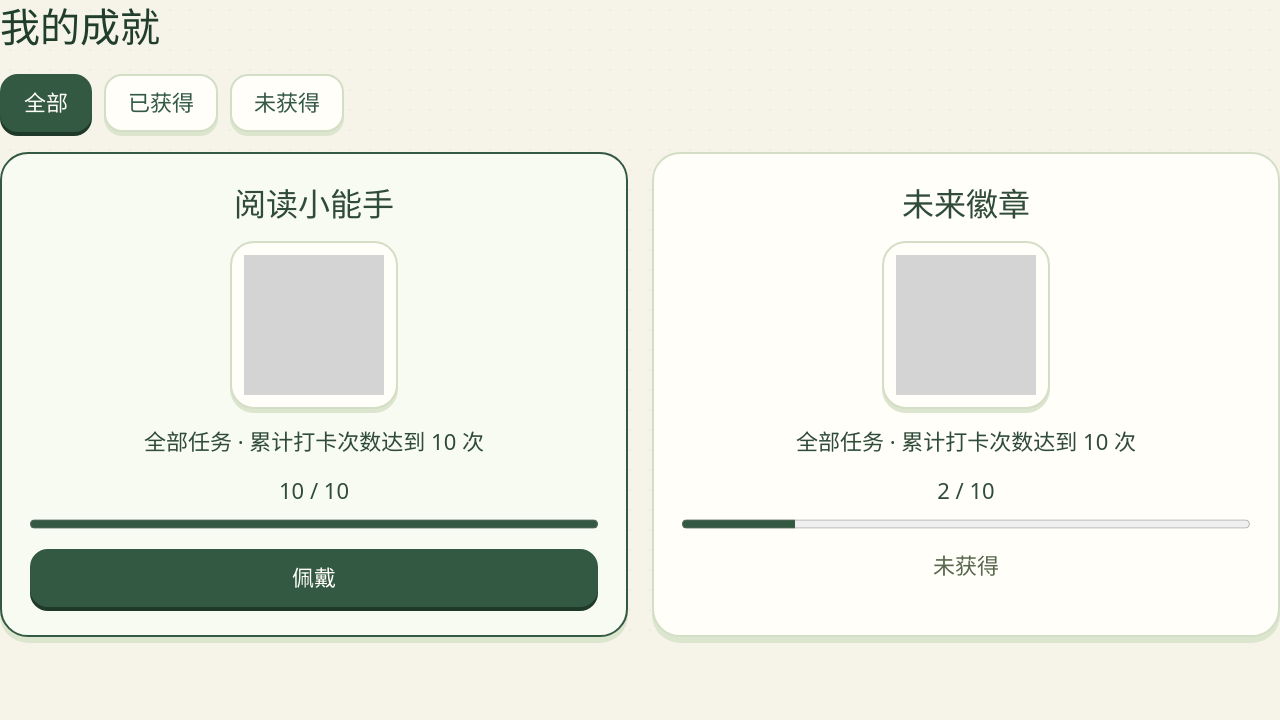
Test case: 成就浏览和佩戴 › 未获得成就只能查看进度，已获得可佩戴且以服务端结果更新
Expected: the heading "阅读小能手" is shown, [234,182,394,225]
Click the button "佩戴" at (314, 578), box [30,549,598,607]
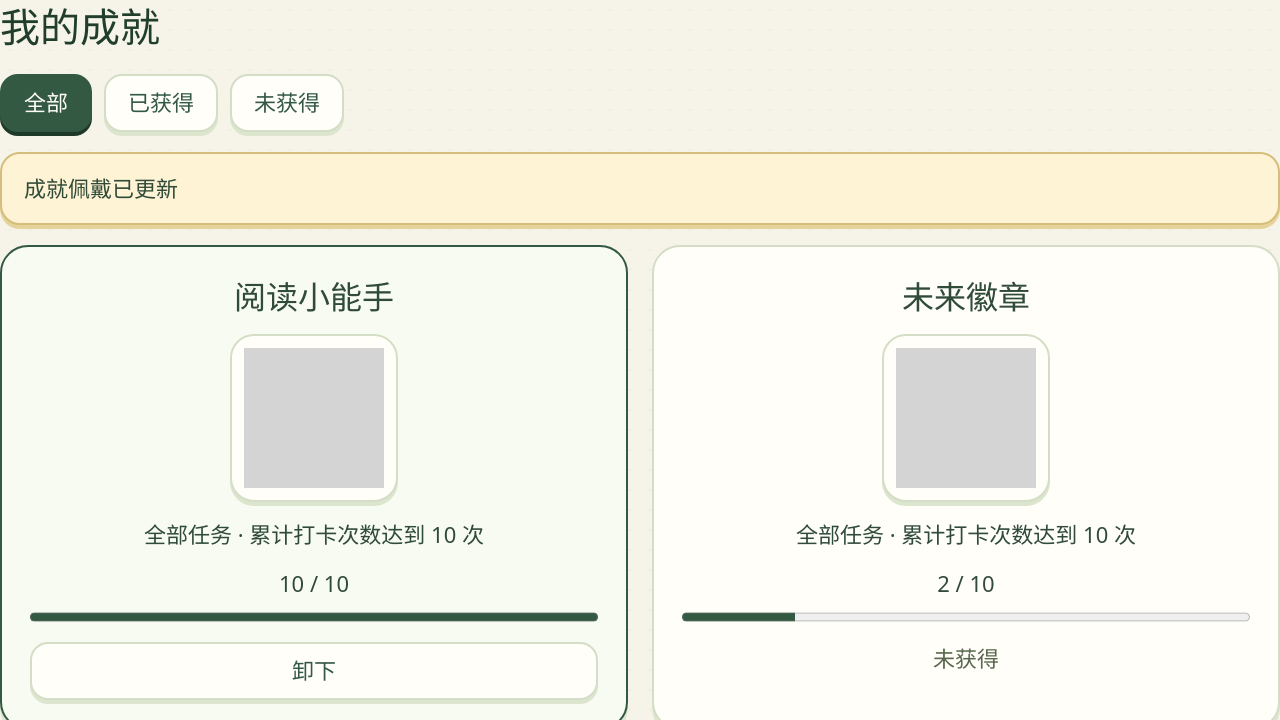
Expected: the button "卸下" is shown, [30,642,598,700]
